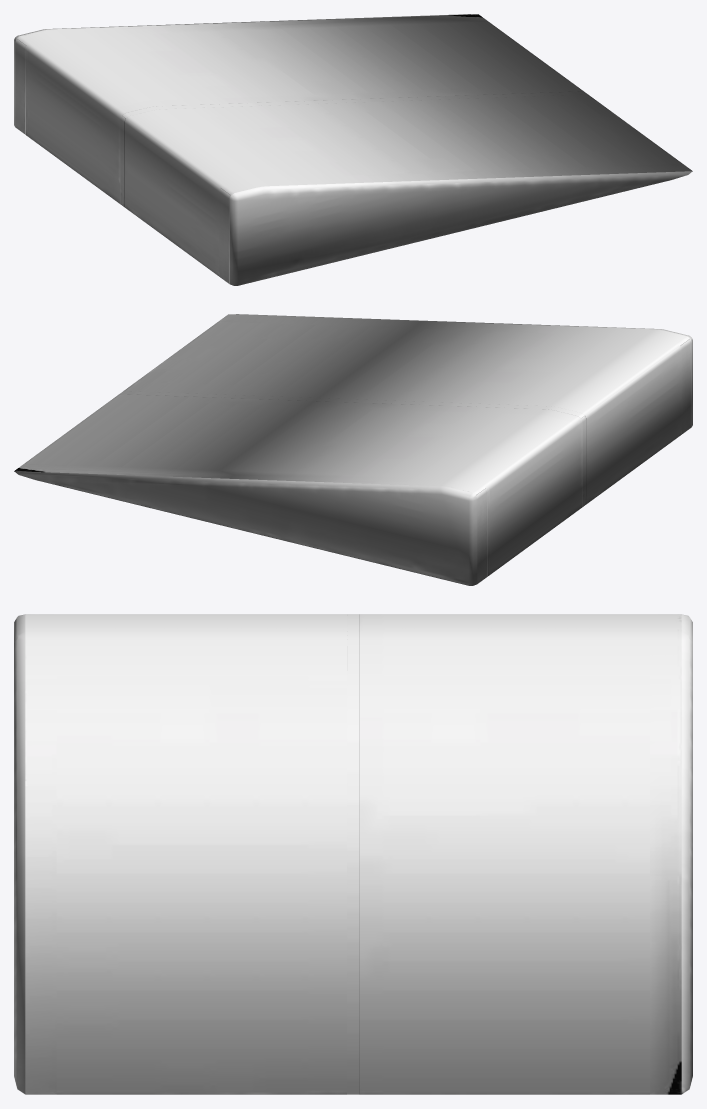
The model's file is rampa_05.glb.
The picture shows the model from 3 angles, top to bottom: view 1: azimuth 30°, elevation 25°; view 2: azimuth 150°, elevation 25°; view 3: azimuth 270°, elevation 25°; orthographic projection. The views are drawn at different scales.
Visible parts, largest first — view 1: rampa, rampaBorder, rampaLine; view 2: rampa, rampaBorder, rampaLine; view 3: rampa, rampaBorder, rampaLine.
Part boxes in pixels (box(x1,y1,x2,y2)): rampa: box(14, 14, 692, 285); rampaBorder: box(15, 14, 692, 283); rampaLine: box(120, 91, 587, 206); rampa: box(14, 314, 692, 585); rampaBorder: box(14, 314, 691, 583); rampaLine: box(119, 391, 586, 506); rampa: box(14, 614, 692, 1094); rampaBorder: box(25, 614, 681, 1094); rampaLine: box(347, 614, 359, 1094).
Size of the model in its own units: 4.87 by 0.9034 by 4.04.
Materials: 3 (3 with a texture image).
